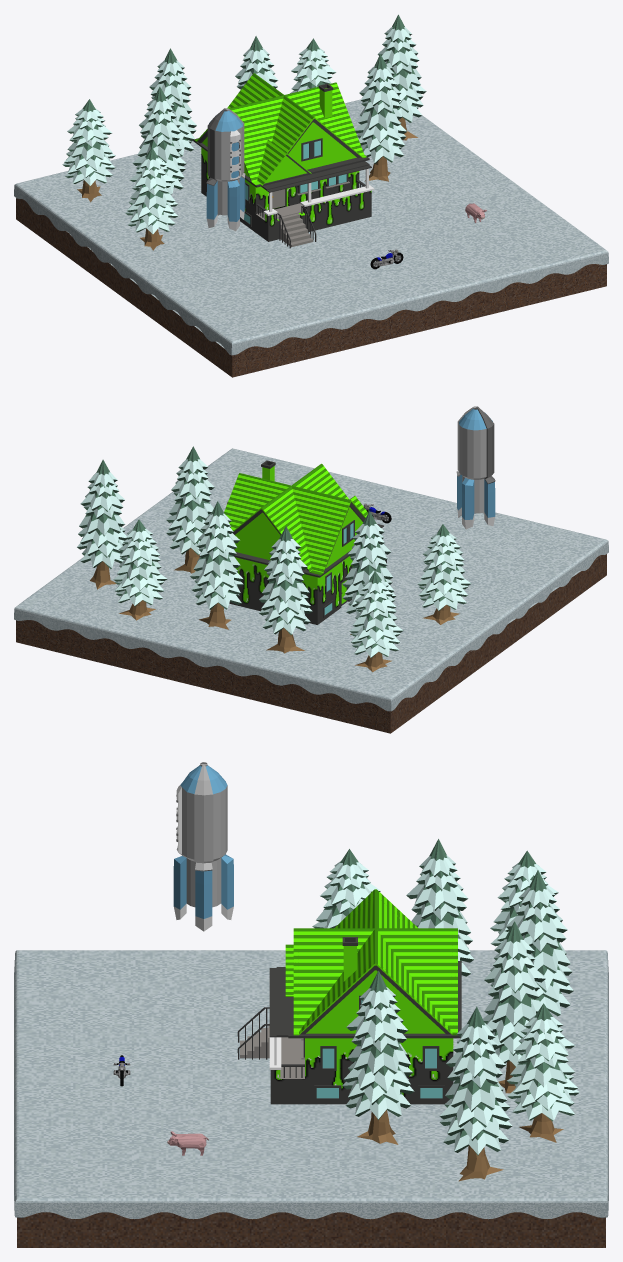
3 renders of one model, top to bottom at view 1: azimuth 30°, elevation 25°; view 2: azimuth 150°, elevation 25°; view 3: azimuth 270°, elevation 25°, orthographic. The views are drawn at different scales.
Parts seen in each view (by area): view 1: Cube.003, Cube.754, OBJRANDOM_ROCKETSHIP; view 2: Cube.003, Cube.754, OBJRANDOM_ROCKETSHIP; view 3: Cube.003, Cube.754, OBJRANDOM_ROCKETSHIP.
Boxes of the visible parts, left/top/right/bottom form: Cube.003: left=14, top=14, right=608, bottom=377; Cube.754: left=193, top=73, right=374, bottom=248; OBJRANDOM_ROCKETSHIP: left=206, top=108, right=245, bottom=231; Cube.003: left=14, top=446, right=608, bottom=733; Cube.754: left=224, top=460, right=386, bottom=624; OBJRANDOM_ROCKETSHIP: left=456, top=406, right=495, bottom=529; Cube.003: left=14, top=839, right=608, bottom=1247; Cube.754: left=237, top=889, right=461, bottom=1104; OBJRANDOM_ROCKETSHIP: left=173, top=762, right=233, bottom=931.
Bounding box in the file's own units: 4040 × 2155 × 4040.
Materials: 30 (4 with a texture image).
